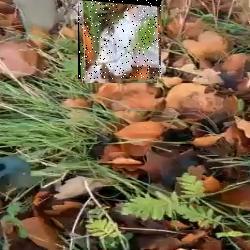plastic: (78, 0, 161, 79)
